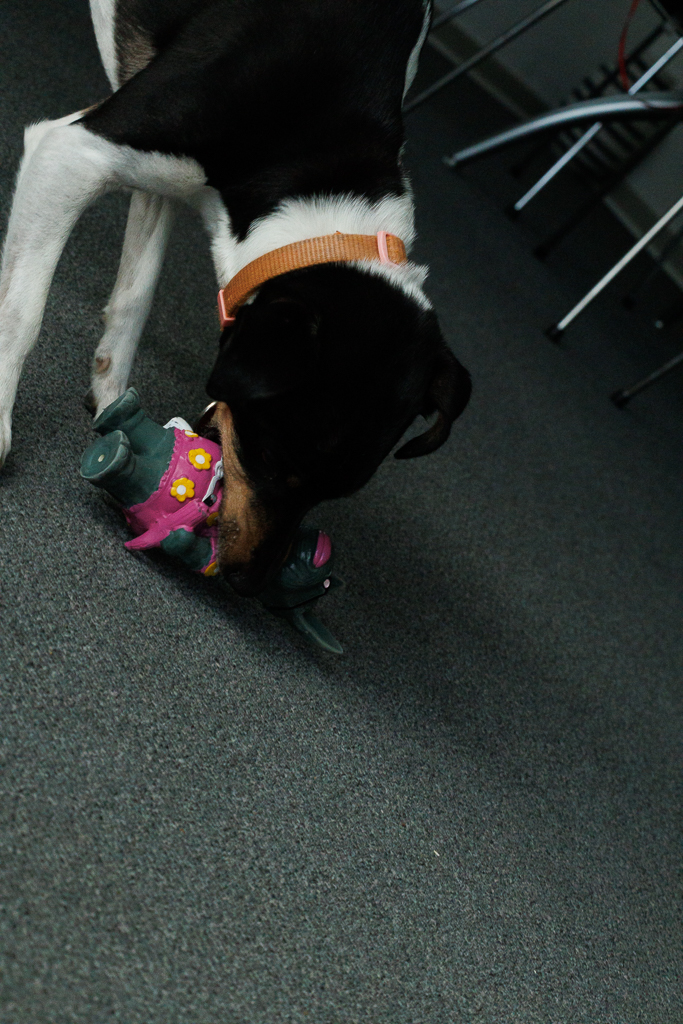Dog: (0, 0, 481, 623)
Humanoid: (71, 381, 365, 659)
